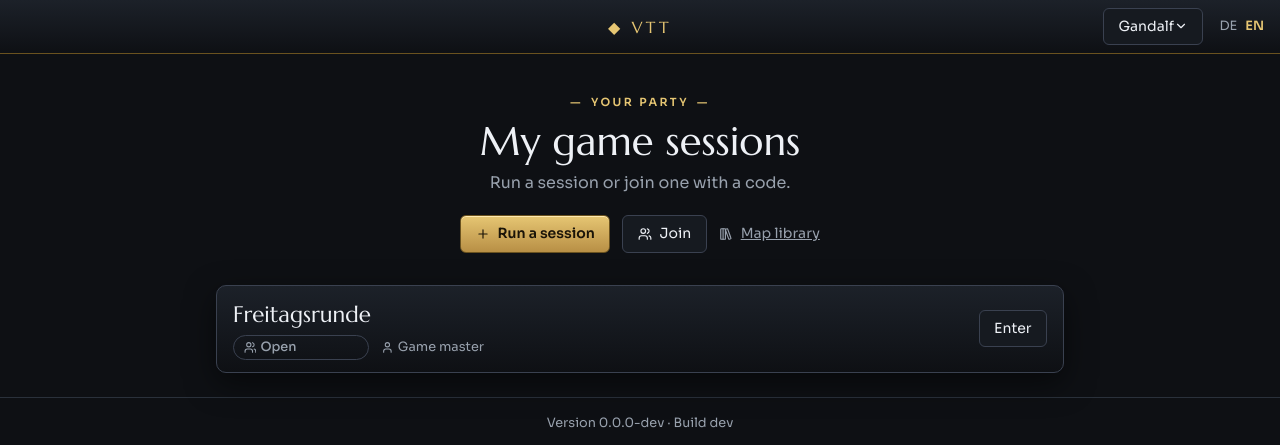
Raumansicht unter Englisch
Click the button "Enter" at (1013, 328), box [979,310,1047,347]
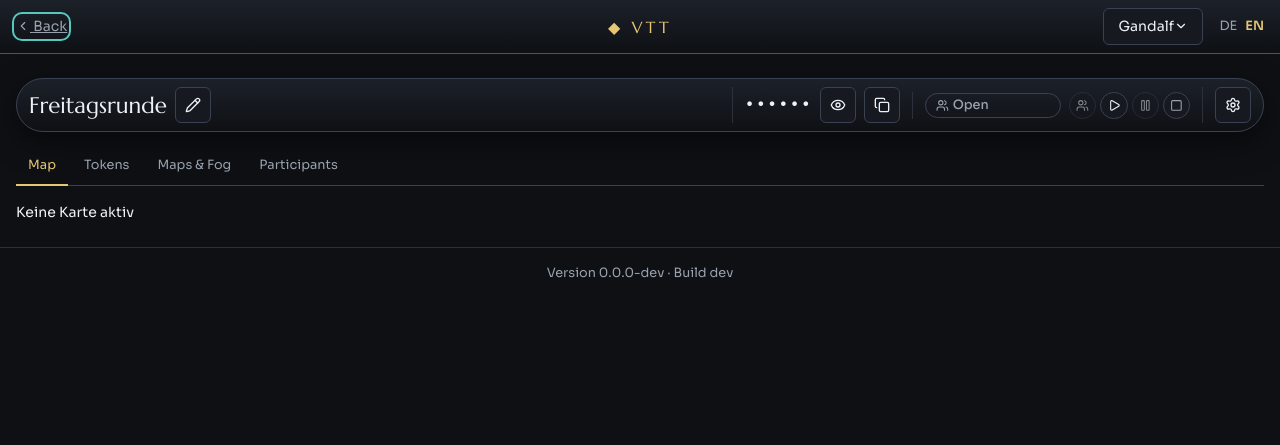
Expected: the heading "Freitagsrunde" is shown, [29,92,167,119]
Click the button named "Show session code" at (838, 105), box [820,87,856,123]
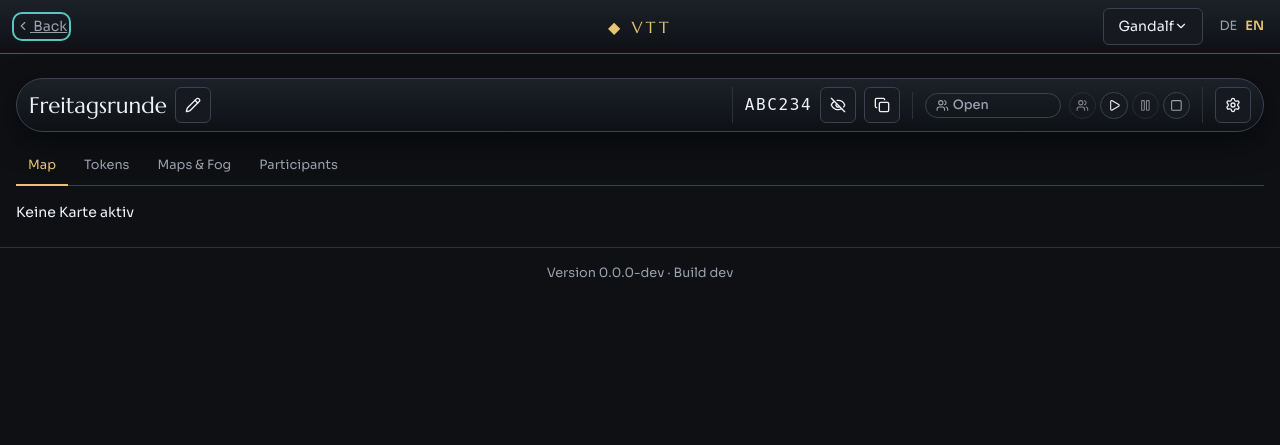
Now the button "Back" is shown, box [16,16,67,37]
Now the button named "Copy session code" is shown, box [864,87,900,123]
Now the text named "Session code" reads "ABC234", box [745,95,812,114]
